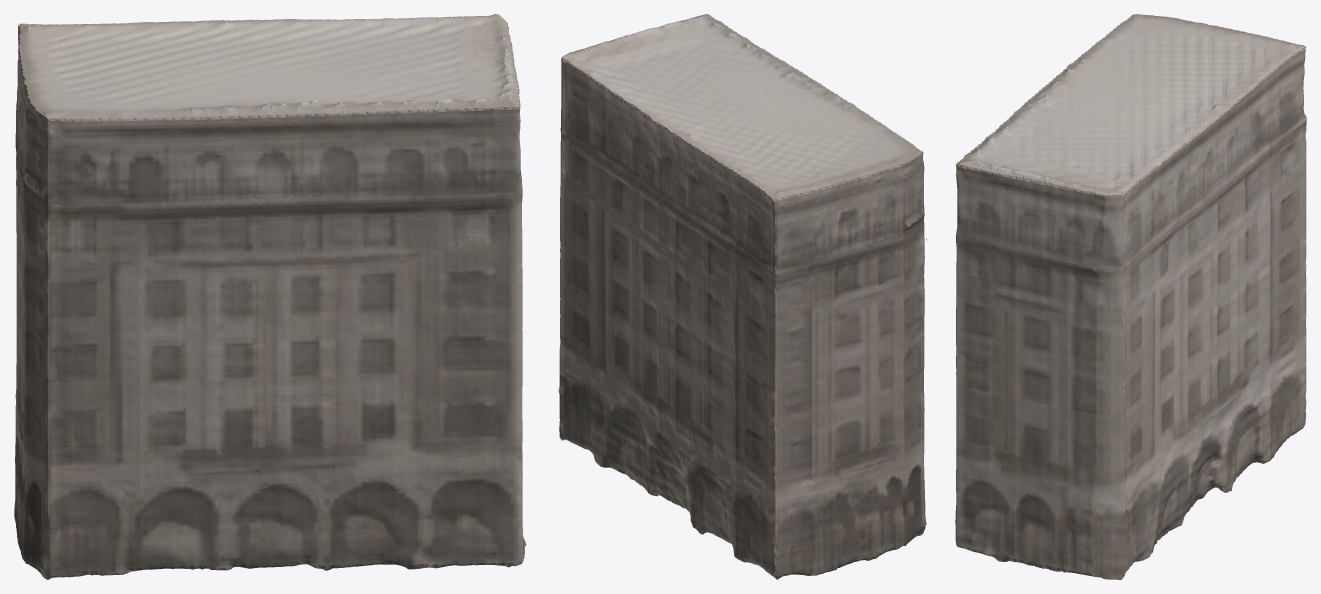
The model's file is zaragoza-bien.glb.
3 renders of one model, left to right at view 1: azimuth 30°, elevation 25°; view 2: azimuth 150°, elevation 25°; view 3: azimuth 270°, elevation 25°, orthographic. The views are drawn at different scales.
Parts seen in each view (by area): view 1: world; view 2: world; view 3: world.
Boxes of the visible parts, left/top/right/bottom form: world: left=14, top=14, right=526, bottom=579; world: left=558, top=14, right=926, bottom=579; world: left=955, top=14, right=1306, bottom=579.
Bounding box in the file's own units: 2 × 2.01 × 1.62.
